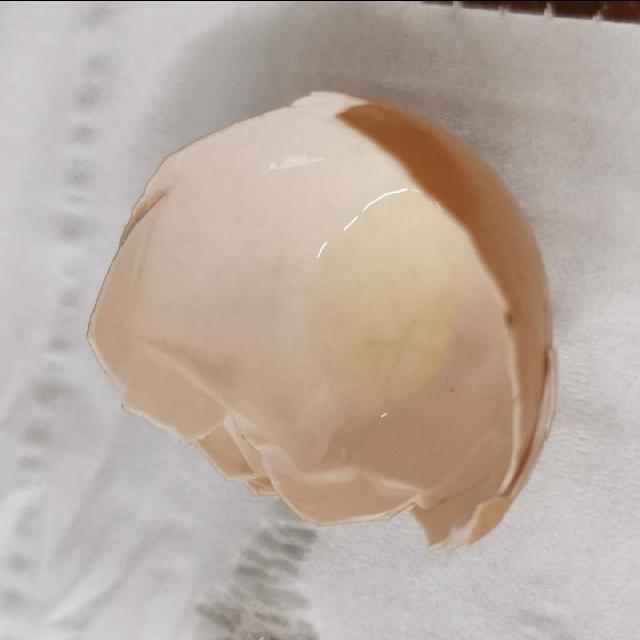egg shell: (78, 87, 552, 550)
